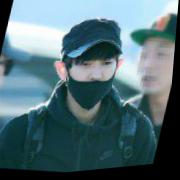WRONG: (61, 43, 123, 115)
